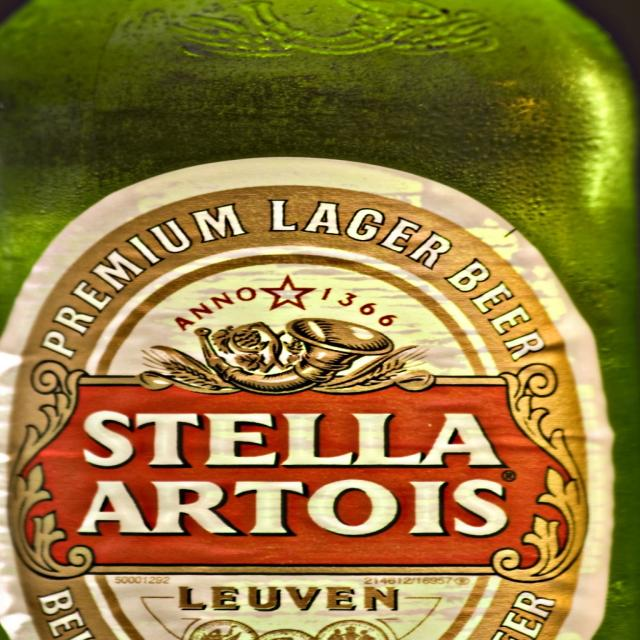stellaartois: (7, 186, 589, 640)
